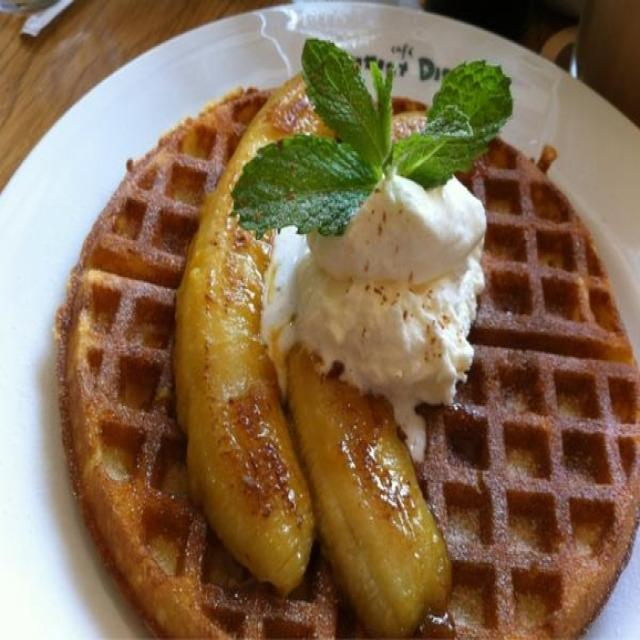炸货点心: (28, 21, 631, 628)
蛋糕甜品: (28, 21, 631, 628)
